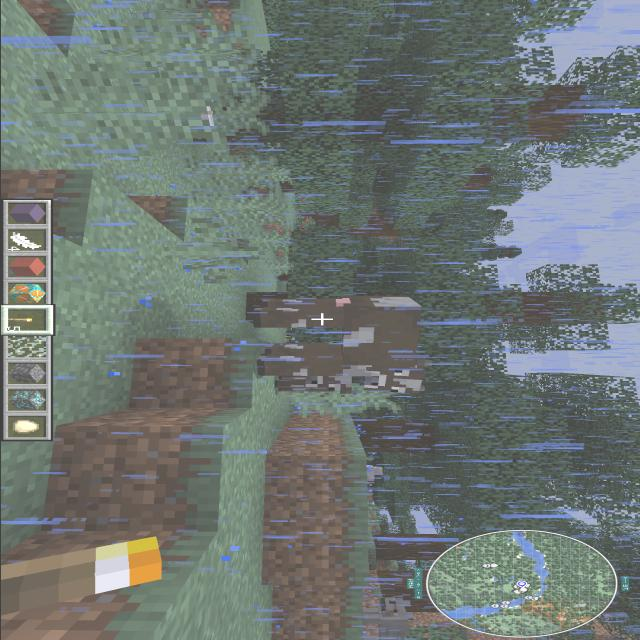Wolf: (346, 590, 418, 640)
cow: (232, 286, 434, 404), (266, 366, 350, 396)
